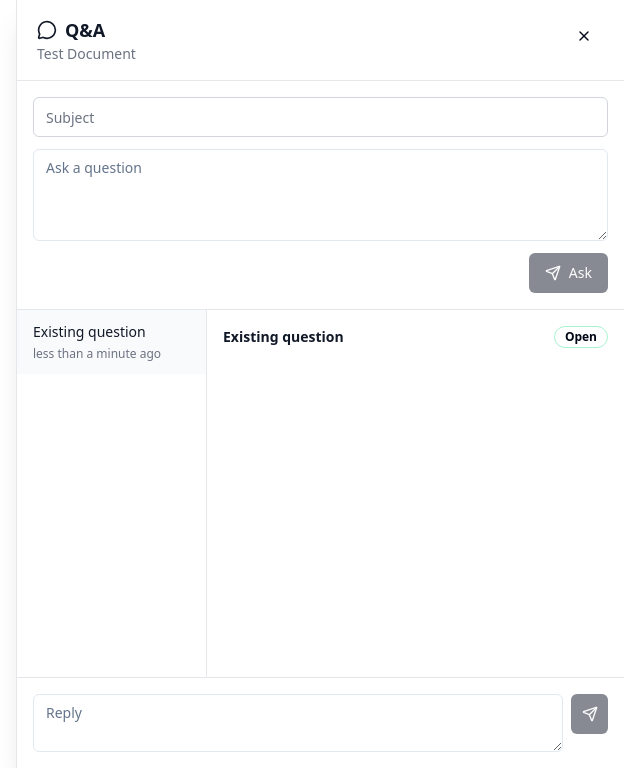
Test case: QnAPanel › replies to an open thread
Expected: the text "Existing question" is shown, [33, 322, 146, 341]
Type "Reply body" into the text box named "reply message" at x=298, y=723, box [33, 694, 563, 752]
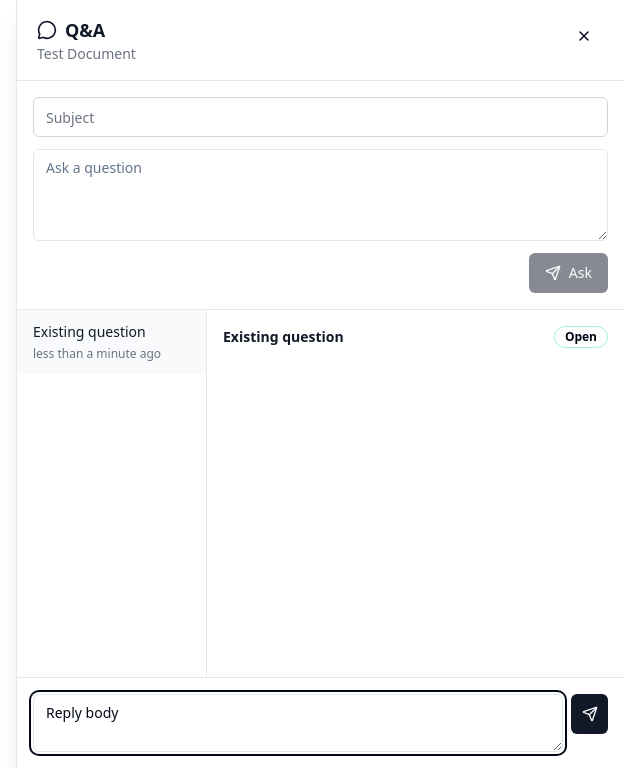
Click the button named "send reply" at x=590, y=714, box [571, 694, 608, 734]
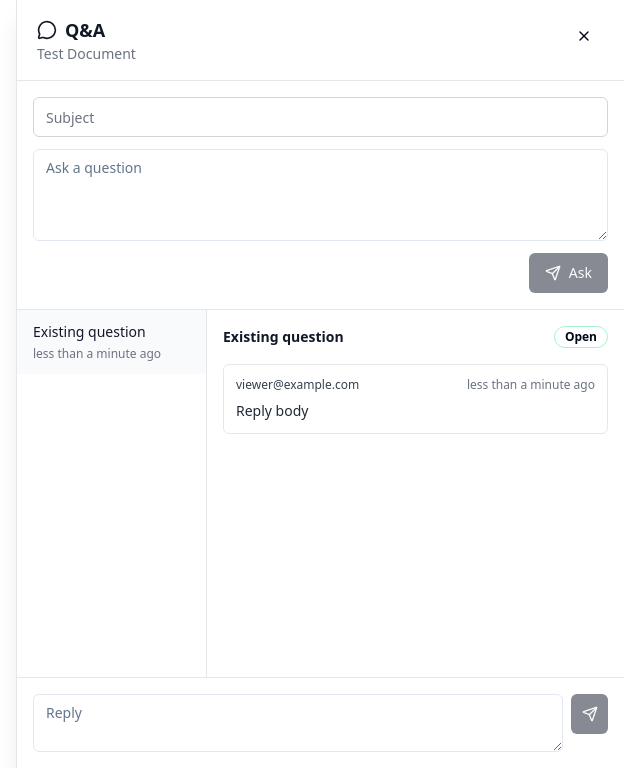
Expected: the text "Reply body" is shown, [236, 401, 308, 420]
